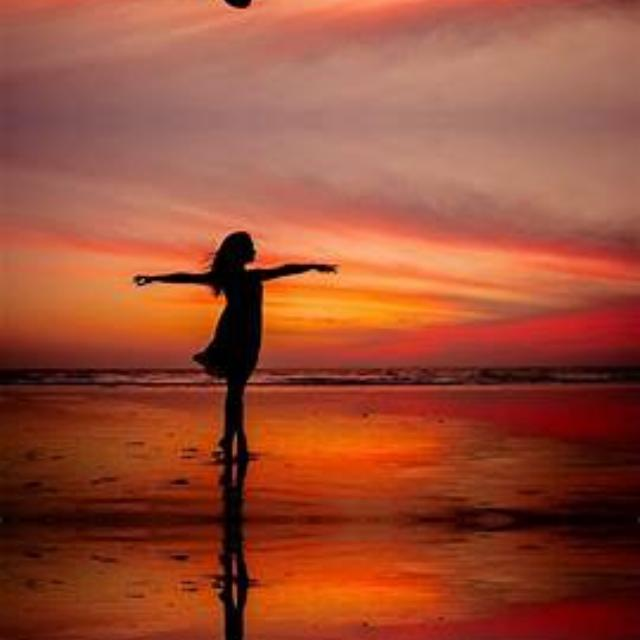person: (149, 226, 329, 502), (149, 537, 329, 640), (149, 0, 329, 12)
